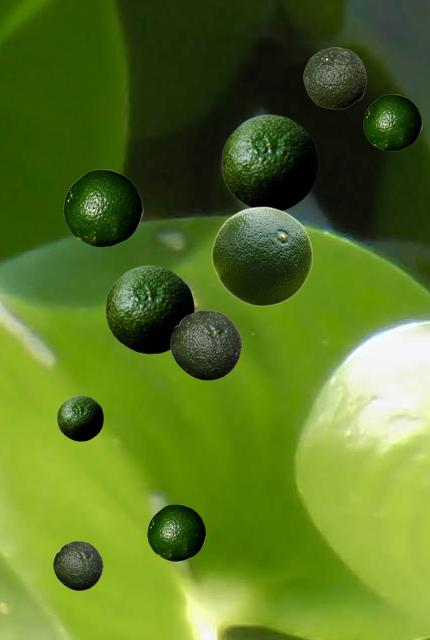calamansi: (211, 206, 312, 305), (221, 114, 317, 210), (105, 265, 193, 353), (63, 169, 142, 246), (170, 310, 241, 379), (303, 47, 365, 108), (363, 94, 421, 150), (147, 504, 205, 560), (53, 541, 102, 589), (57, 395, 102, 440)
